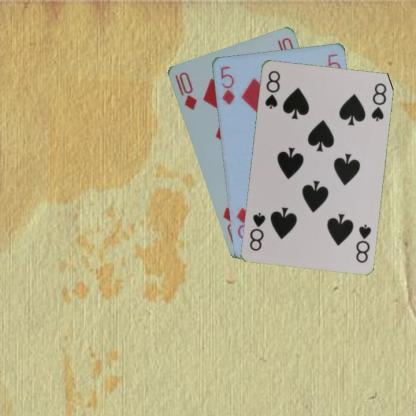10d: (172, 70, 198, 112)
5d: (218, 63, 236, 106)
8s: (262, 67, 281, 110), (353, 221, 372, 264)
